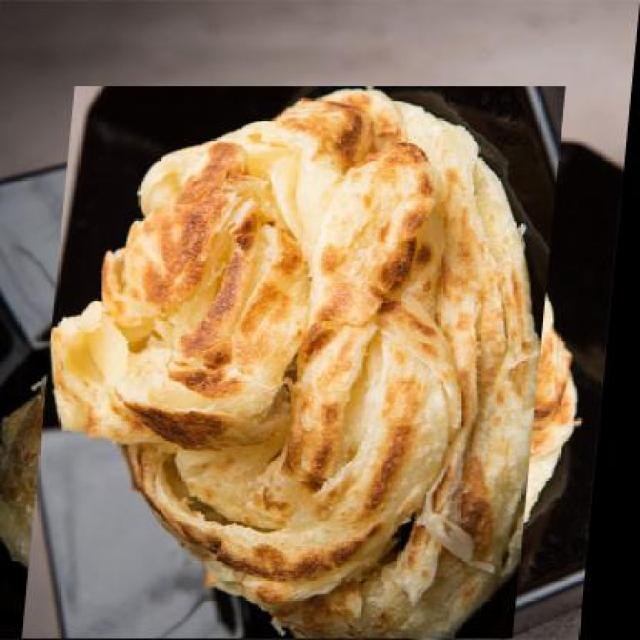chapati: (12, 104, 590, 638)
